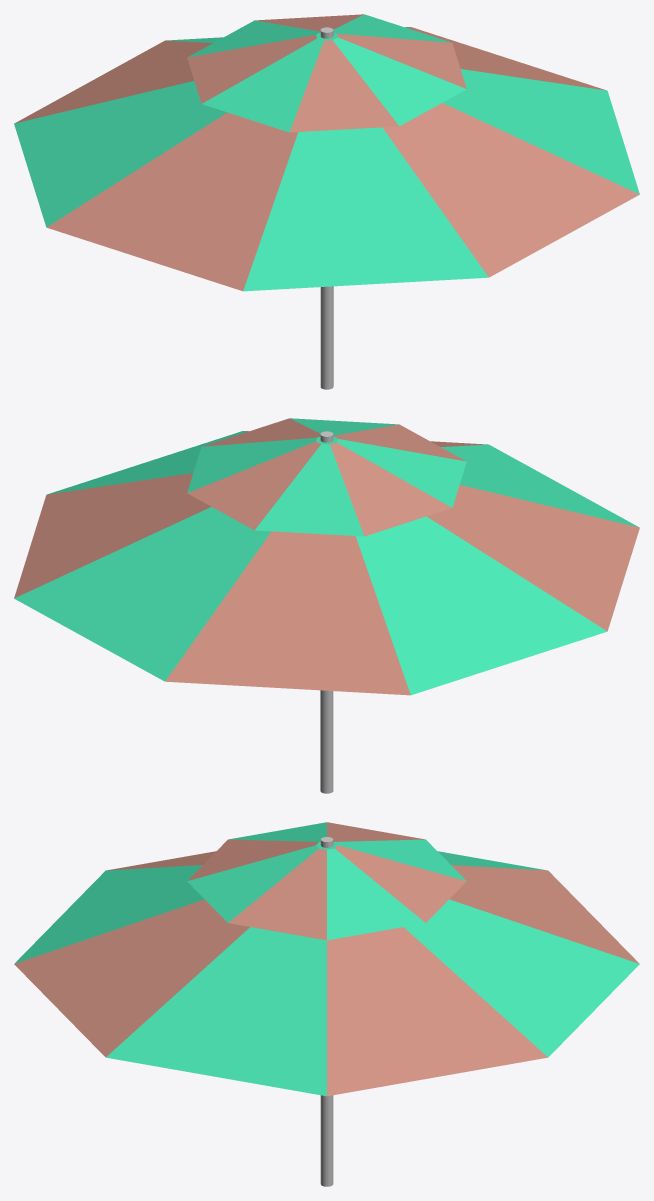
Rendered from Guarda-Sol3.fbx.
3 renders of one model, top to bottom at view 1: azimuth 30°, elevation 25°; view 2: azimuth 150°, elevation 25°; view 3: azimuth 270°, elevation 25°, orthographic. The views are drawn at different scales.
Visible parts, largest first — view 1: Circle, Cylinder; view 2: Circle, Cylinder; view 3: Circle, Cylinder.
Part boxes in pixels (x1,y1,x2,y2): Circle: (14, 14, 639, 291); Cylinder: (320, 27, 333, 389); Circle: (14, 418, 639, 695); Cylinder: (320, 431, 333, 793); Circle: (14, 822, 639, 1096); Cylinder: (320, 837, 333, 1186).
Size of the model in its own units: 680 by 413 by 680.
